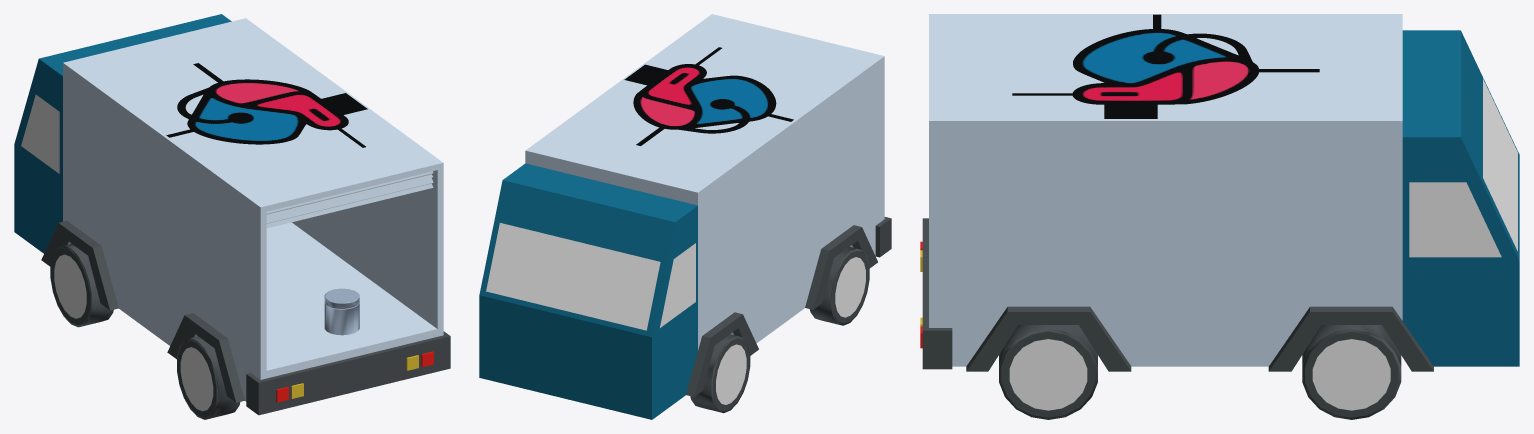
The model's file is Truck.fbx.
3 renders of one model, left to right at view 1: azimuth 30°, elevation 25°; view 2: azimuth 150°, elevation 25°; view 3: azimuth 270°, elevation 25°, orthographic. The views are drawn at different scales.
Parts seen in each view (by area): view 1: Truck, Dye, Wheels, Truck Shutter, Paint; view 2: Truck, Dye, Wheels; view 3: Truck, Wheels, Dye.
Part boxes in pixels (box(x1,y1,x2,y2)): Truck: box(14, 14, 450, 415); Dye: box(166, 63, 367, 147); Wheels: box(50, 243, 240, 419); Truck Shutter: box(266, 171, 433, 228); Paint: box(324, 288, 359, 335); Truck: box(479, 14, 891, 419); Dye: box(624, 47, 793, 145); Wheels: box(690, 247, 869, 413); Truck: box(920, 14, 1519, 371); Wheels: box(999, 325, 1401, 419); Dye: box(1012, 14, 1319, 118).
Bounding box in the file's own units: 2.3 × 2.54 × 4.73.
